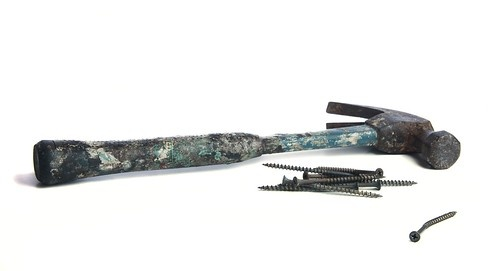hammer: (31, 99, 461, 184)
